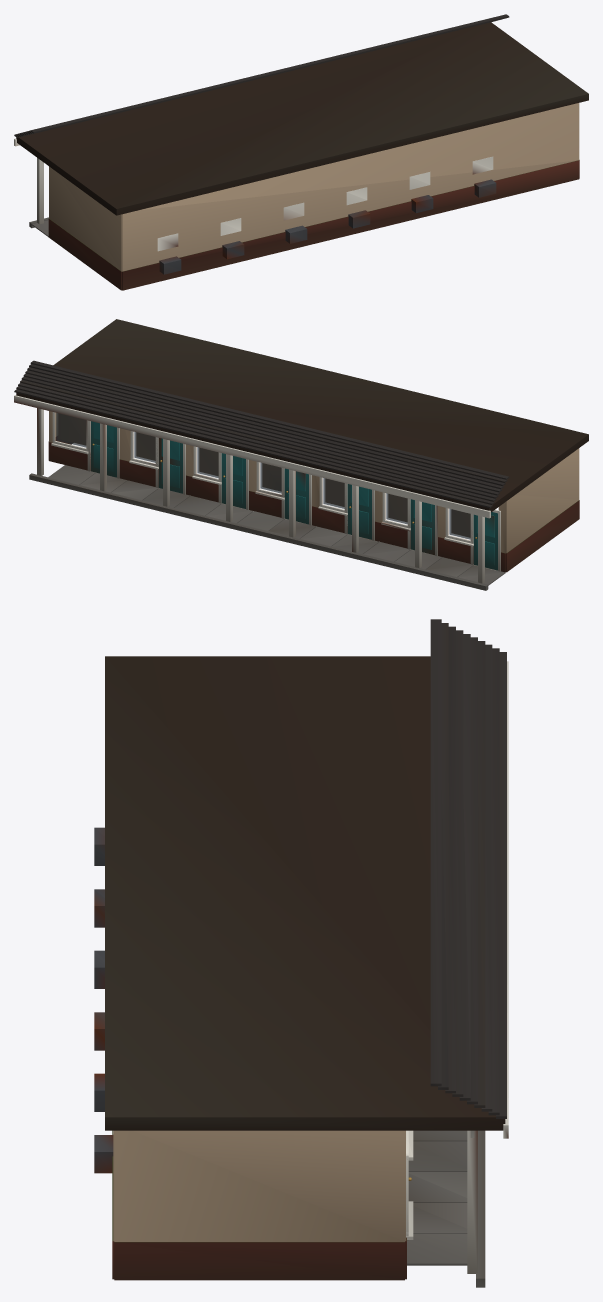
The model's file is TruckStopMotel.glb.
3 renders of one model, top to bottom at view 1: azimuth 30°, elevation 25°; view 2: azimuth 150°, elevation 25°; view 3: azimuth 270°, elevation 25°, orthographic. The views are drawn at different scales.
Visible parts, largest first — view 1: TruckStopMotel_roof_deck, TruckStopMotel_ts_stucco, TruckStopMotel_brick, TruckStopMotel_shingle, TruckStopMotel_ts_white, TruckStopMotel_ts_steel; view 2: TruckStopMotel_roof_deck, TruckStopMotel_shingle, TruckStopMotel_ts_white, TruckStopMotel_concrete, TruckStopMotel_ts_teal, TruckStopMotel_brick, TruckStopMotel_ts_stucco, TruckStopMotel_ts_glass, TruckStopMotel_ts_curtain; view 3: TruckStopMotel_roof_deck, TruckStopMotel_shingle, TruckStopMotel_ts_stucco, TruckStopMotel_brick, TruckStopMotel_concrete, TruckStopMotel_ts_white, TruckStopMotel_ts_steel.
Boxes of the visible parts, x1=… form: TruckStopMotel_roof_deck: x1=16, y1=22, x2=588, y2=215; TruckStopMotel_ts_stucco: x1=49, y1=103, x2=579, y2=271; TruckStopMotel_brick: x1=48, y1=160, x2=579, y2=290; TruckStopMotel_shingle: x1=14, y1=14, x2=509, y2=137; TruckStopMotel_ts_white: x1=14, y1=138, x2=493, y2=251; TruckStopMotel_ts_steel: x1=159, y1=179, x2=496, y2=274; TruckStopMotel_roof_deck: x1=16, y1=319, x2=588, y2=512; TruckStopMotel_shingle: x1=14, y1=360, x2=509, y2=507; TruckStopMotel_ts_white: x1=14, y1=395, x2=500, y2=583; TruckStopMotel_concrete: x1=29, y1=465, x2=505, y2=590; TruckStopMotel_ts_teal: x1=91, y1=421, x2=497, y2=570; TruckStopMotel_brick: x1=48, y1=436, x2=579, y2=572; TruckStopMotel_ts_stucco: x1=49, y1=411, x2=579, y2=553; TruckStopMotel_ts_glass: x1=56, y1=413, x2=470, y2=539; TruckStopMotel_ts_curtain: x1=58, y1=414, x2=470, y2=537; TruckStopMotel_roof_deck: x1=105, y1=656, x2=505, y2=1130; TruckStopMotel_shingle: x1=430, y1=619, x2=506, y2=1118; TruckStopMotel_ts_stucco: x1=113, y1=1130, x2=405, y2=1241; TruckStopMotel_brick: x1=112, y1=1130, x2=406, y2=1280; TruckStopMotel_concrete: x1=407, y1=1130, x2=485, y2=1287; TruckStopMotel_ts_white: x1=113, y1=661, x2=508, y2=1273; TruckStopMotel_ts_steel: x1=94, y1=827, x2=113, y2=1173.
Size of the model in its own units: 60.4 by 12.94 by 22.8.
